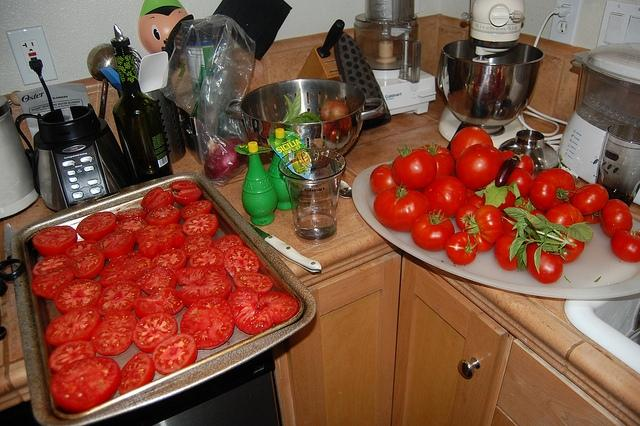eggplant: (495, 154, 524, 188)
tomato: (50, 356, 122, 414), (180, 295, 235, 350), (373, 182, 430, 233), (227, 286, 274, 336), (454, 144, 504, 190), (392, 141, 438, 190), (46, 306, 101, 346), (529, 168, 578, 212), (98, 250, 152, 288), (152, 332, 198, 376), (421, 176, 468, 218), (177, 274, 233, 309), (410, 210, 455, 253), (132, 312, 178, 354), (54, 278, 103, 314), (90, 316, 134, 356), (96, 279, 141, 317), (118, 352, 156, 396), (462, 205, 504, 244), (48, 340, 96, 373), (526, 242, 563, 284), (451, 126, 494, 162), (32, 226, 78, 258), (418, 139, 456, 177), (32, 267, 74, 300), (600, 199, 633, 239), (136, 264, 176, 296), (570, 183, 610, 215), (94, 229, 135, 260), (222, 244, 259, 278), (260, 292, 298, 325), (76, 211, 117, 241), (68, 248, 106, 280), (444, 231, 478, 265), (610, 229, 640, 263), (369, 161, 398, 196), (233, 271, 273, 296), (546, 204, 586, 228), (155, 286, 185, 316), (153, 222, 185, 250), (182, 212, 218, 236), (494, 235, 518, 271), (32, 254, 71, 276), (150, 248, 188, 270), (140, 187, 174, 211), (506, 167, 533, 197), (180, 234, 213, 258), (482, 188, 516, 211), (147, 205, 180, 227), (559, 237, 585, 264), (456, 204, 480, 233), (114, 217, 150, 236), (190, 247, 223, 267), (65, 240, 98, 260), (180, 200, 212, 220), (134, 224, 164, 244), (212, 234, 243, 252), (174, 188, 202, 206), (115, 208, 148, 221), (514, 195, 539, 212), (138, 239, 160, 258), (476, 232, 496, 252), (517, 154, 534, 176), (323, 120, 340, 140), (501, 217, 518, 237), (169, 180, 197, 190), (582, 210, 601, 224), (530, 209, 546, 217)
